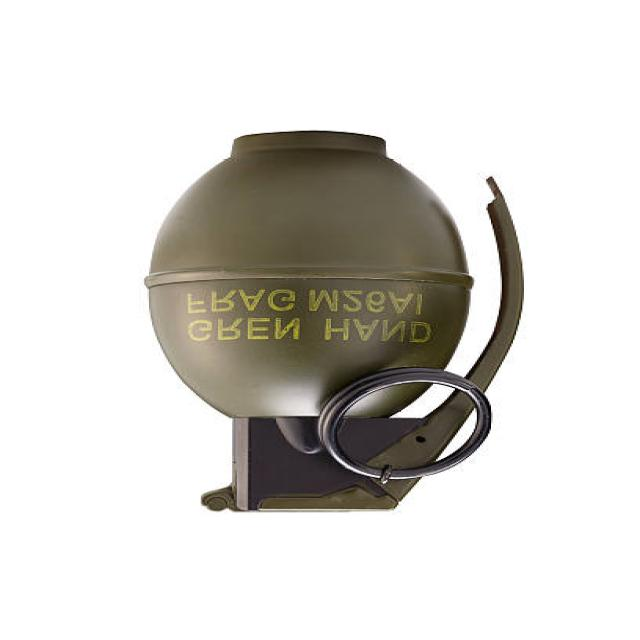grenade: (134, 115, 533, 522)
